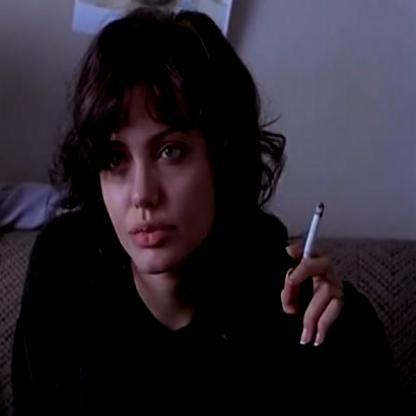cigarette: (299, 200, 327, 267)
person: (29, 7, 312, 415)
